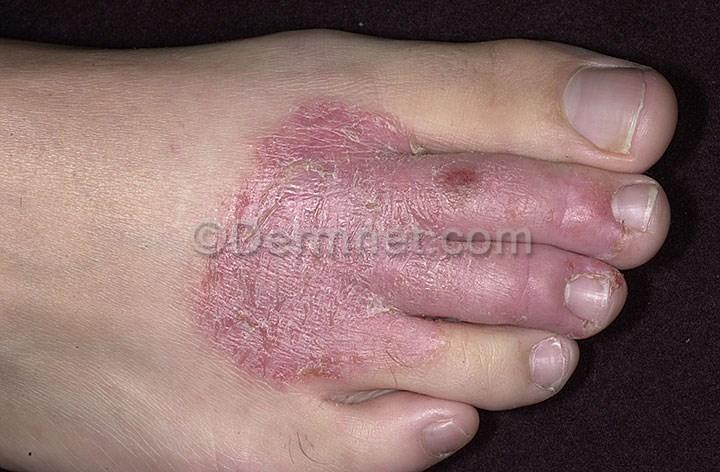Eczema: (194, 105, 411, 373), (413, 232, 513, 352), (418, 147, 514, 235), (514, 175, 609, 253), (501, 248, 567, 322)
